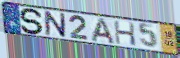2: (69, 14, 90, 42)
5: (137, 22, 160, 51)
A: (90, 17, 116, 45)
H: (113, 19, 138, 47)
N: (43, 10, 67, 39)
S: (18, 8, 46, 36)
